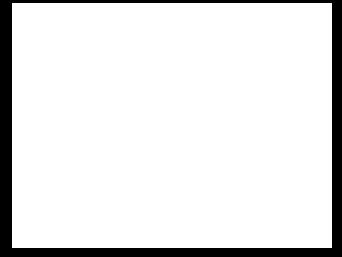table: (12, 3, 332, 248)
